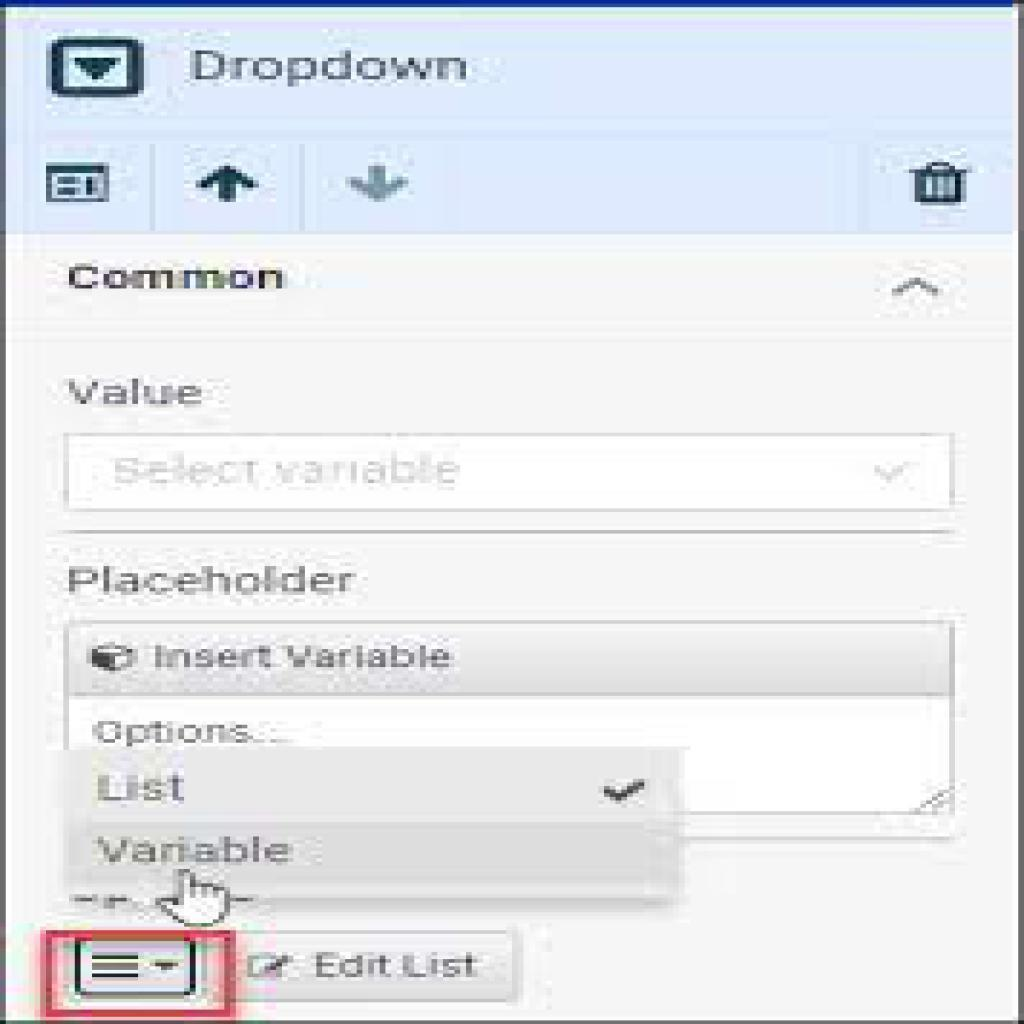button: (62, 621, 956, 699), (234, 932, 515, 1005)
dropdown: (65, 435, 952, 509)
icon: (43, 159, 127, 212), (908, 155, 977, 210), (189, 165, 268, 208), (346, 162, 413, 208), (889, 262, 946, 311), (592, 767, 660, 807), (88, 945, 145, 984)
